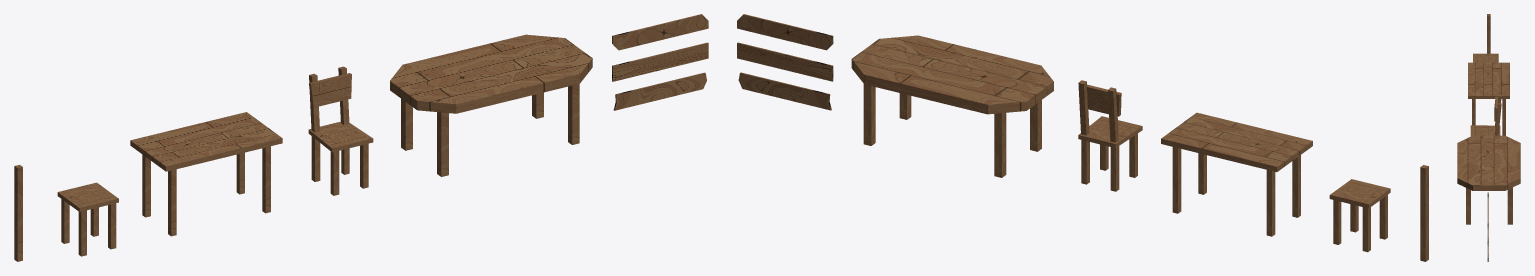
Rendered from Table_Chair 1.fbx.
3 views of the same model, side by side, from view 1: azimuth 30°, elevation 25°; view 2: azimuth 150°, elevation 25°; view 3: azimuth 270°, elevation 25° (orthographic). The views are drawn at different scales.
Parts seen in each view (by area): view 1: Table_2, Table_1, Chair, Stool, Wood_2, Wood_3, Wood_1, foot; view 2: Table_2, Table_1, Chair, Stool, Wood_2, Wood_3, Wood_1, foot; view 3: Table_2, Table_1, Chair, Stool, foot, Wood_3.
Boxes of the visible parts, left/top/right/bottom form: Table_2: left=390, top=34, right=592, bottom=176; Table_1: left=130, top=112, right=282, bottom=236; Chair: left=308, top=66, right=373, bottom=195; Stool: left=57, top=182, right=118, bottom=256; Wood_2: left=612, top=42, right=708, bottom=81; Wood_3: left=612, top=14, right=708, bottom=50; Wood_1: left=613, top=72, right=706, bottom=110; foot: left=14, top=164, right=22, bottom=261; Table_2: left=851, top=35, right=1053, bottom=177; Table_1: left=1161, top=112, right=1312, bottom=236; Chair: left=1078, top=80, right=1142, bottom=191; Stool: left=1329, top=179, right=1390, bottom=252; Wood_2: left=737, top=42, right=833, bottom=81; Wood_3: left=737, top=14, right=833, bottom=50; Wood_1: left=738, top=72, right=831, bottom=110; foot: left=1420, top=165, right=1428, bottom=261; Table_2: left=1457, top=135, right=1520, bottom=224; Table_1: left=1468, top=62, right=1509, bottom=135; Chair: left=1470, top=94, right=1501, bottom=136; Stool: left=1473, top=53, right=1498, bottom=62; foot: left=1487, top=14, right=1490, bottom=53; Wood_3: left=1487, top=192, right=1488, bottom=228.
Bounding box in the file's own units: 7.5 × 1.09 × 1.01.
